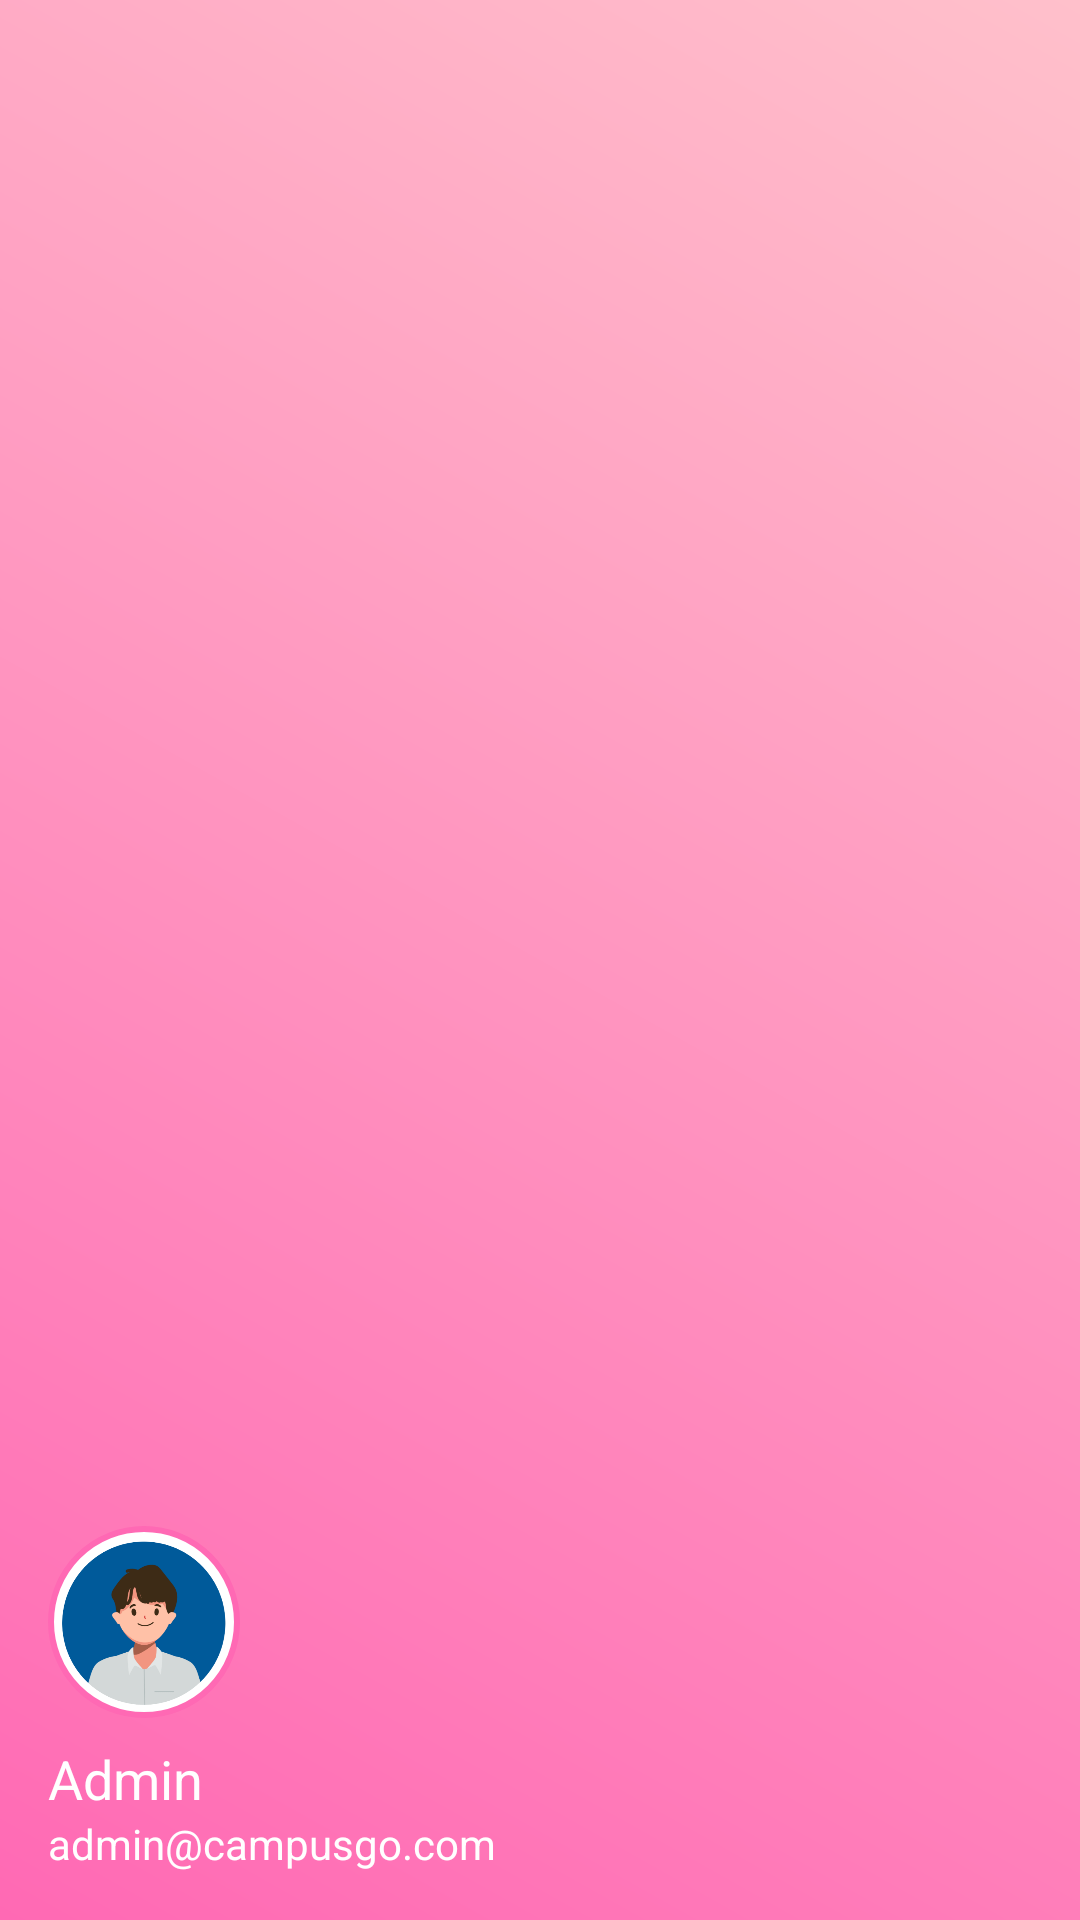

Screen size 1080 × 1920. Icon name, then its box in pixels as (x1, y1, x2, y2):
human: (54, 1532, 234, 1712)
